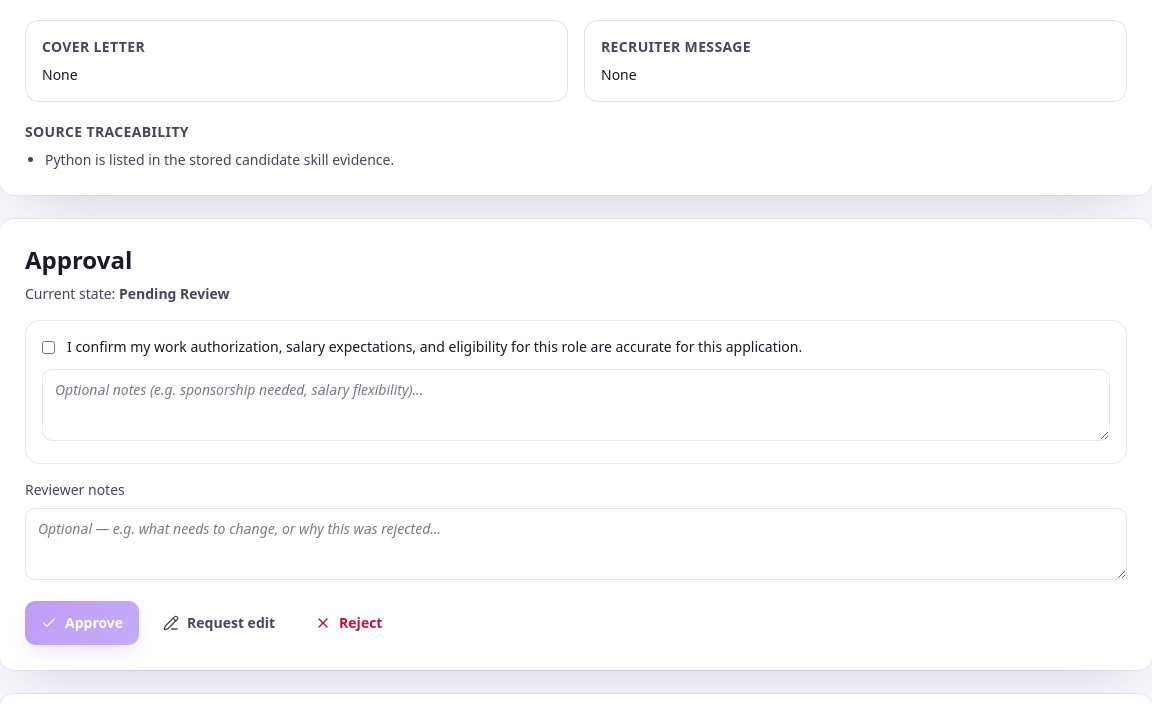
it: PrepareApplicationWorkspace › keeps Approve disabled until eligibility is confirmed
The image size is (1152, 707).
(page scrolled)
Expected: the button "Approve" is disabled, [25,602,139,646]
Click the checkbox.
click(48, 348)  # box [42,342,55,354]
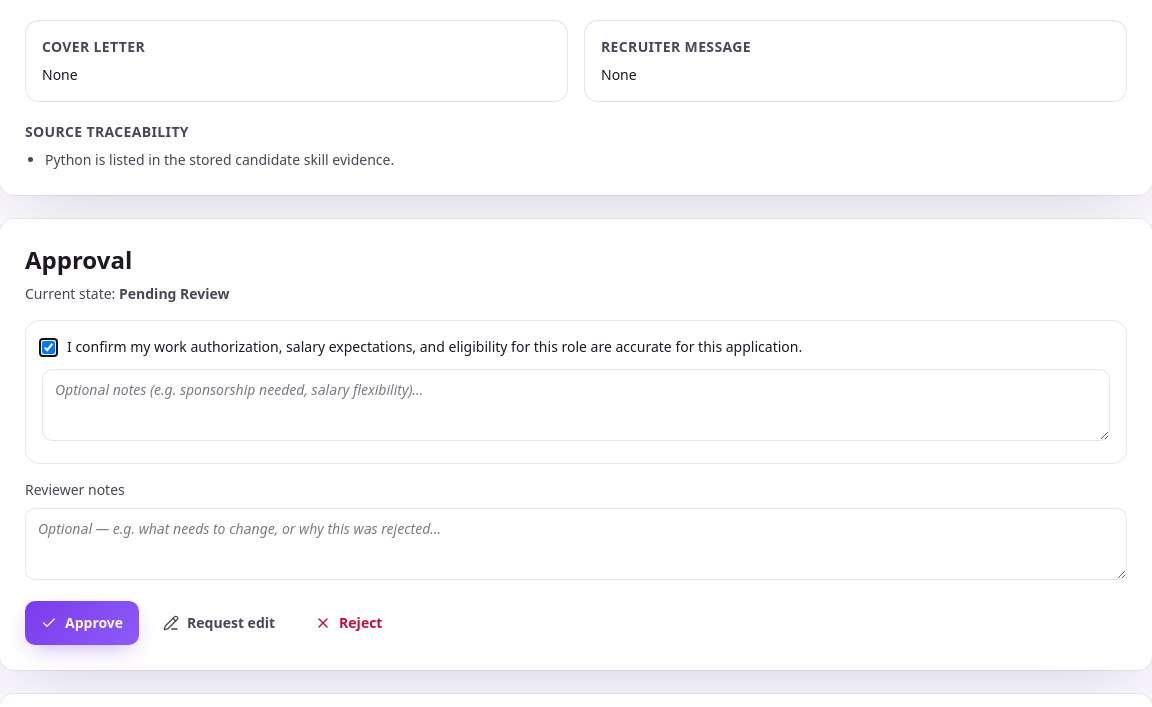
Expected: the button "Approve" is enabled, [25,602,139,646]
